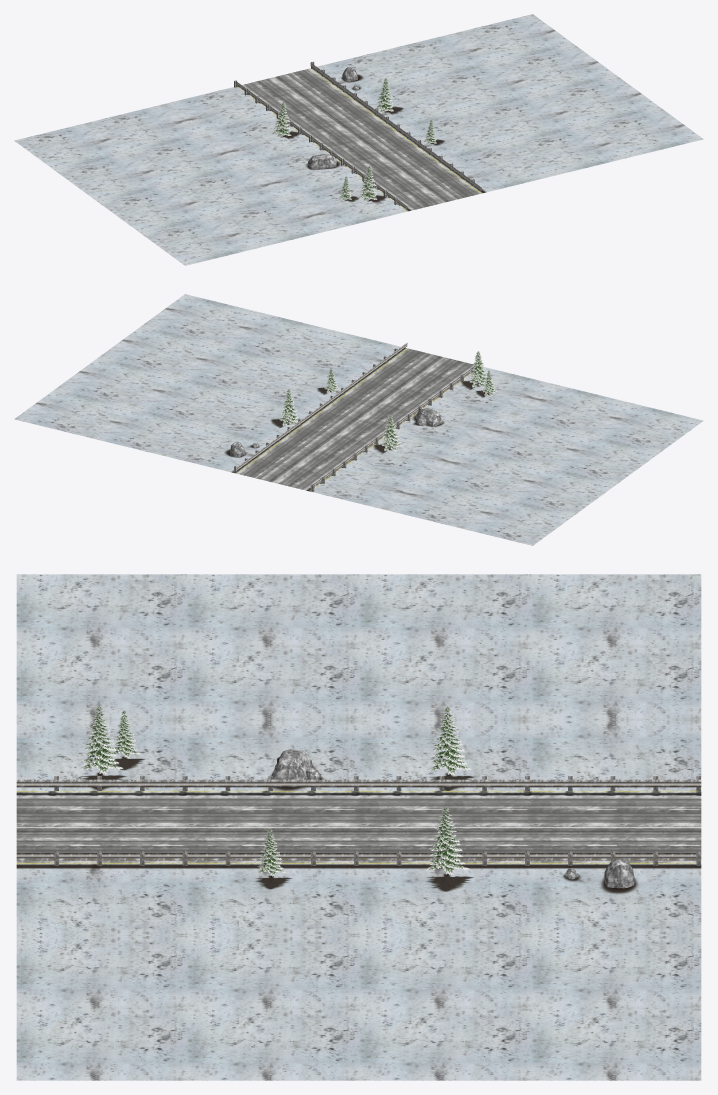
3 renders of one model, top to bottom at view 1: azimuth 30°, elevation 25°; view 2: azimuth 150°, elevation 25°; view 3: azimuth 270°, elevation 25°, orthographic. The views are drawn at different scales.
Parts seen in each view (by area): view 1: scene1, road, Box033, rock1; view 2: scene1, road, Box033, rock1; view 3: scene1, road, Box033, rock1.
Part boxes in pixels (<box>): scene1: <box>14,14,703,265</box>; road: <box>234,61,481,211</box>; Box033: <box>270,78,436,201</box>; rock1: <box>307,67,359,169</box>; scene1: <box>14,294,703,545</box>; road: <box>234,343,481,491</box>; Box033: <box>278,351,496,451</box>; rock1: <box>230,408,442,457</box>; scene1: <box>16,574,701,1080</box>; road: <box>16,776,701,865</box>; Box033: <box>79,705,471,876</box>; rock1: <box>272,749,635,888</box>.
Bounding box in the file's own units: 140 × 9.35 × 80.
